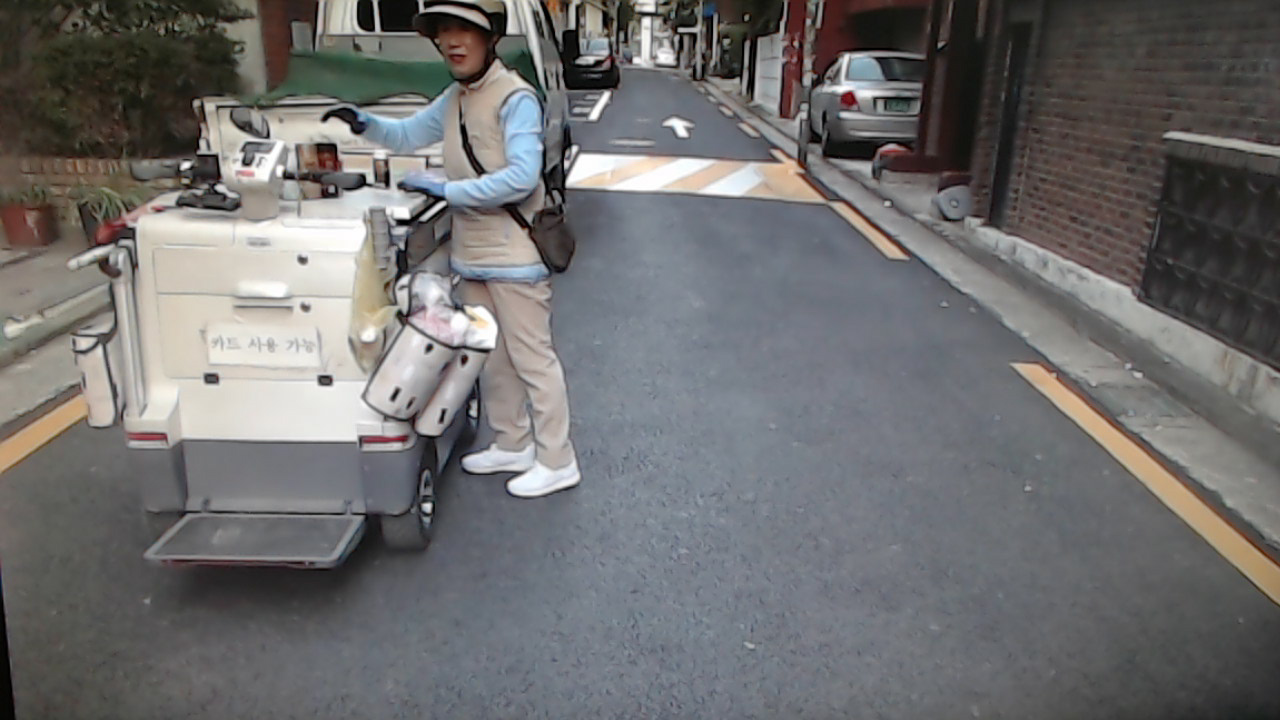Yakurut: (319, 4, 600, 509)
